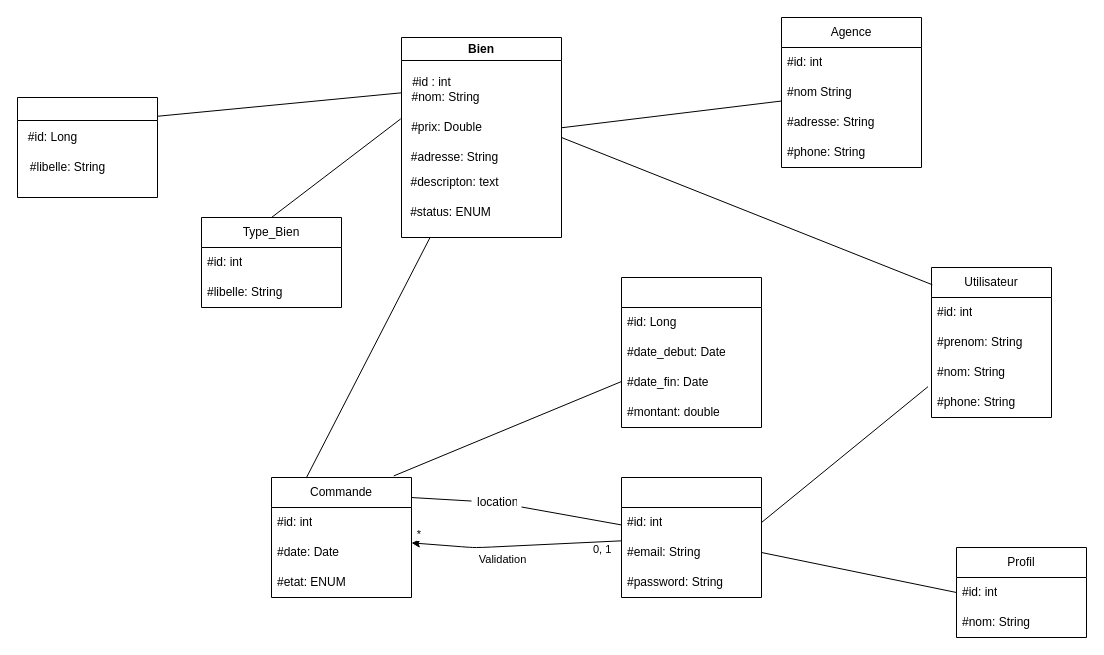
This 1104x655 diagram has some shape labels left out. Each missing label, with the box of its shape:
Categorie: (16, 96, 158, 198)
Compte: (620, 476, 762, 598)
Contrat: (620, 276, 762, 428)
